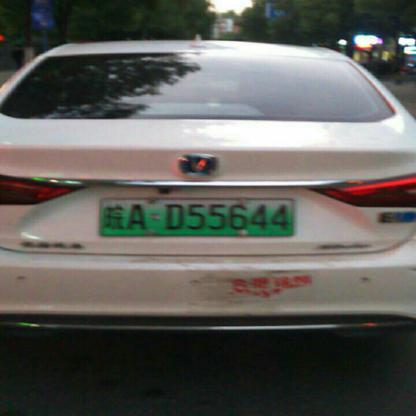lp: (100, 198, 293, 236)
